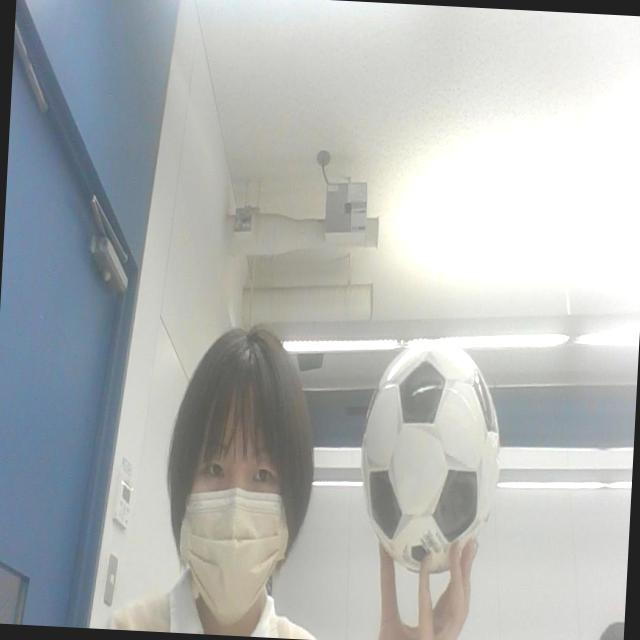Soccer Ball: (354, 340, 504, 572)
